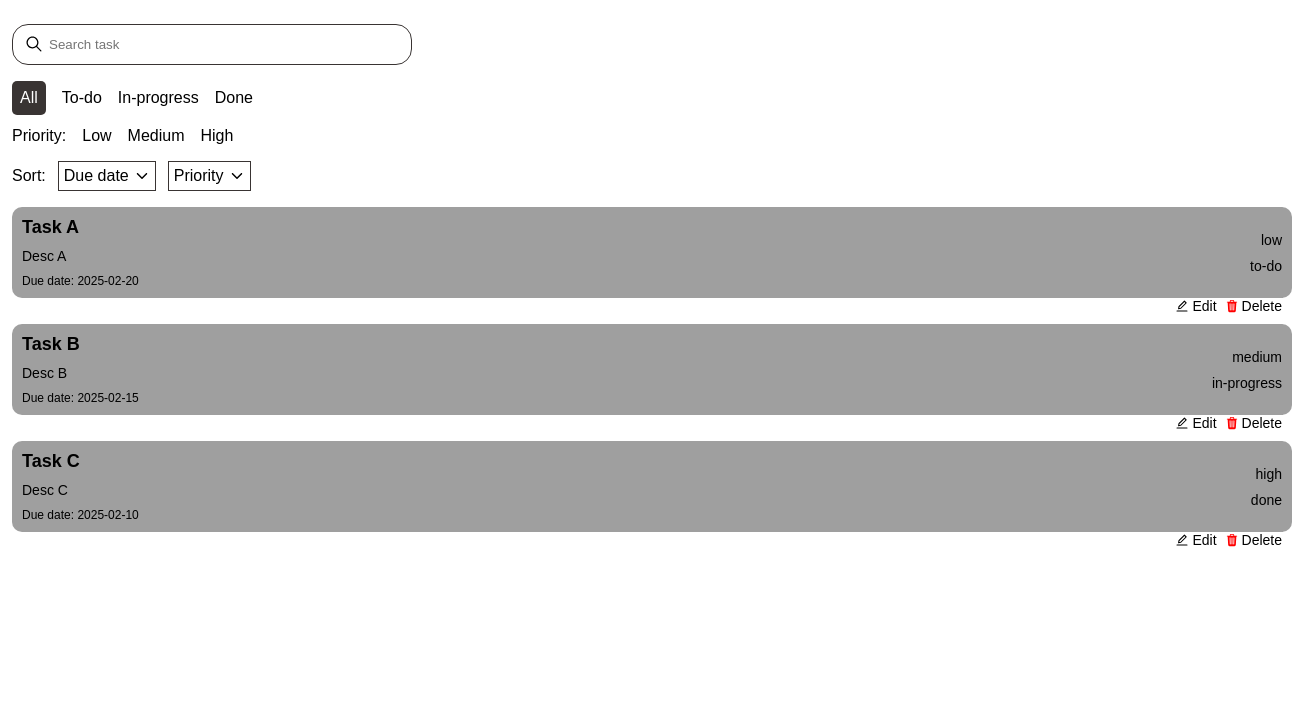
it: TaskList Component › searches tasks correctly
This screenshot has width=1292, height=720.
Step 1. Type "Task A" into the search field with placeholder "Search task" → (212, 44), box [12, 24, 412, 65]
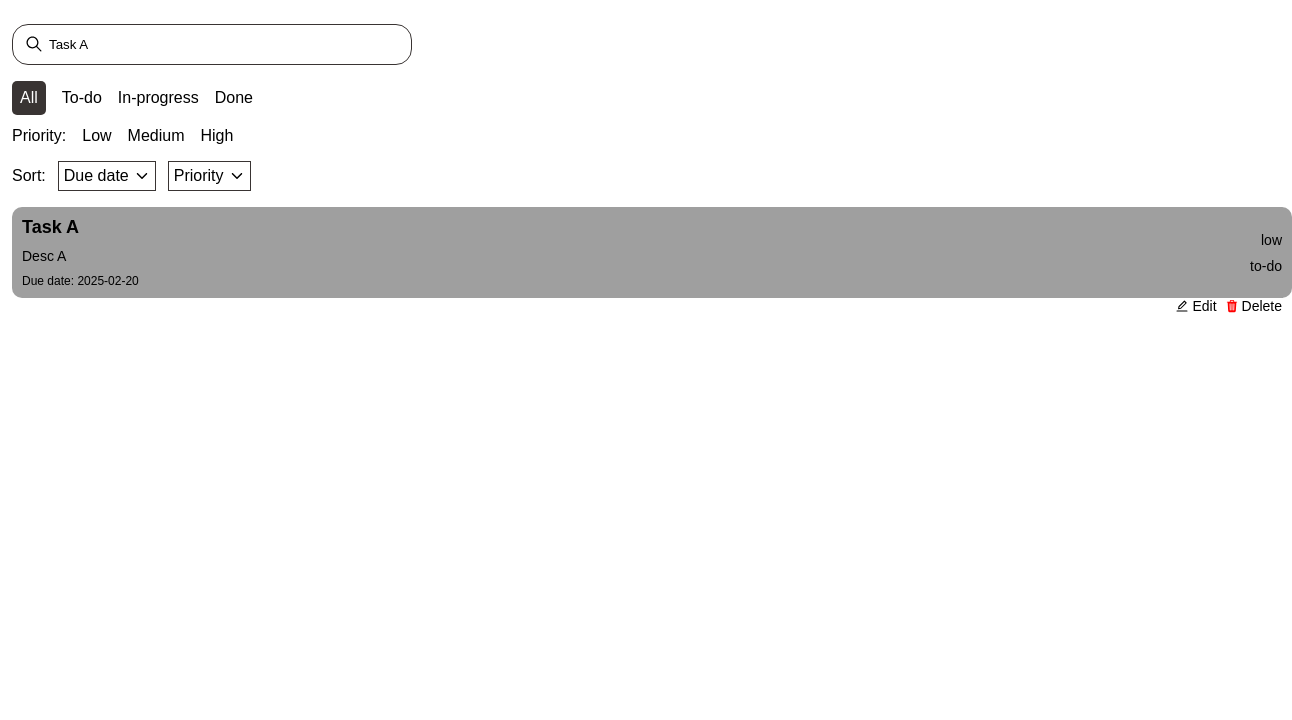
expect the heading "Task A" is shown: met, box [22, 217, 79, 237]
expect the heading "Task B" is gone: met
